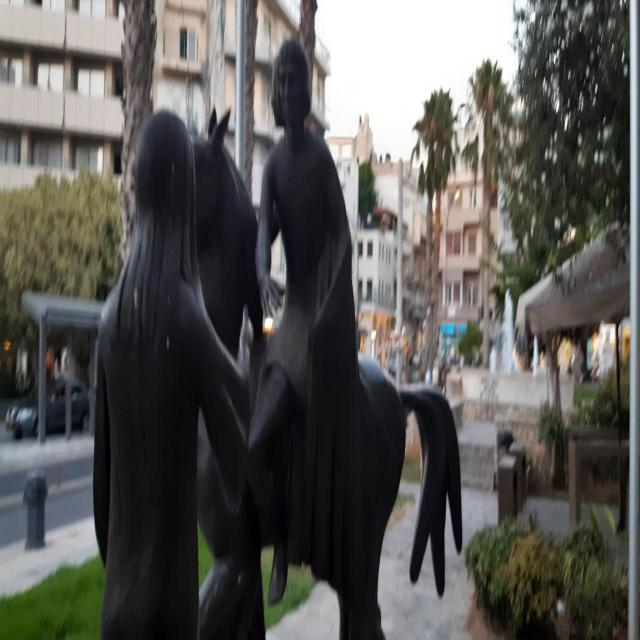Aretousa: (94, 37, 464, 640)
